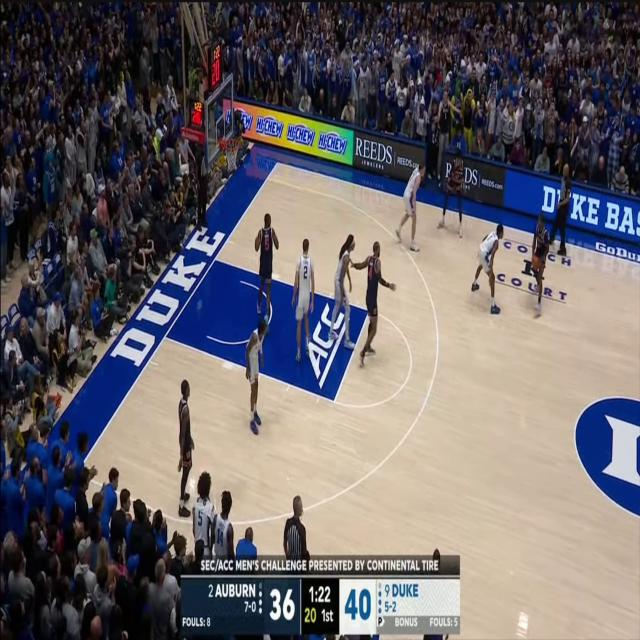basketball: (528, 240, 545, 284)
